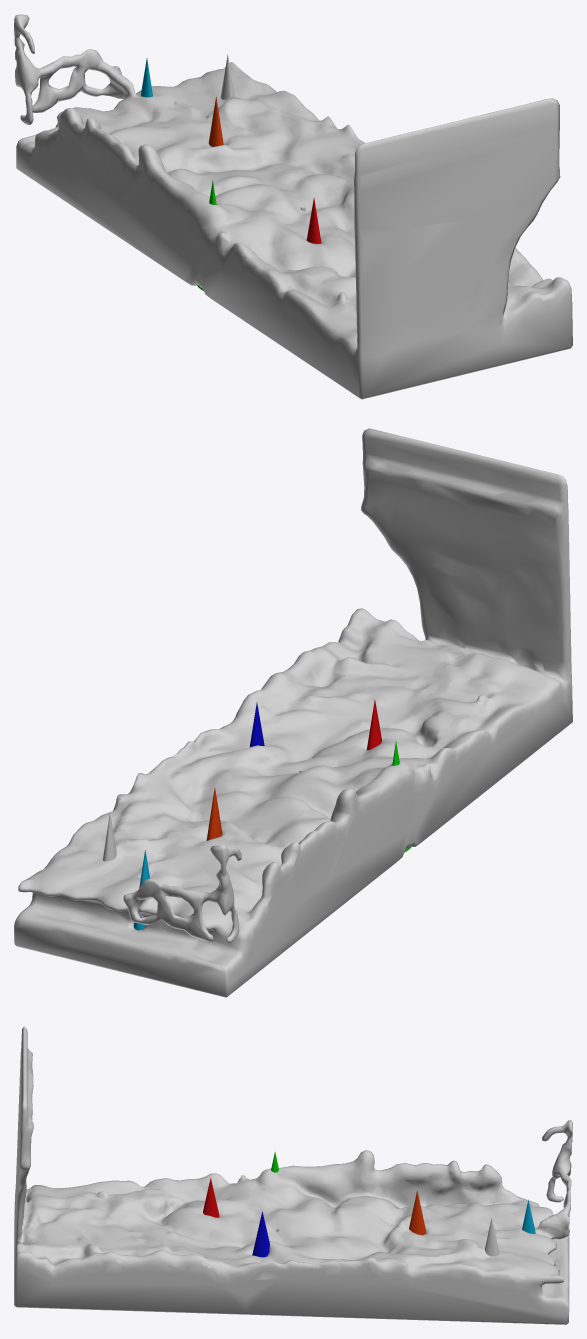
3 renders of one model, top to bottom at view 1: azimuth 30°, elevation 25°; view 2: azimuth 150°, elevation 25°; view 3: azimuth 270°, elevation 25°, orthographic. The views are drawn at different scales.
Parts seen in each view (by area): view 1: Liquid_Domain; view 2: Liquid_Domain; view 3: Liquid_Domain, 円錐.002, 円錐.004.
Boxes of the visible parts, box(x1,y1,x2,y2) form: Liquid_Domain: box(14, 14, 572, 399); Liquid_Domain: box(14, 428, 572, 997); Liquid_Domain: box(14, 1026, 572, 1324); 円錐.002: box(252, 1211, 269, 1257); 円錐.004: box(409, 1191, 426, 1234).
Bounding box in the file's own units: 129 × 158 × 364.
